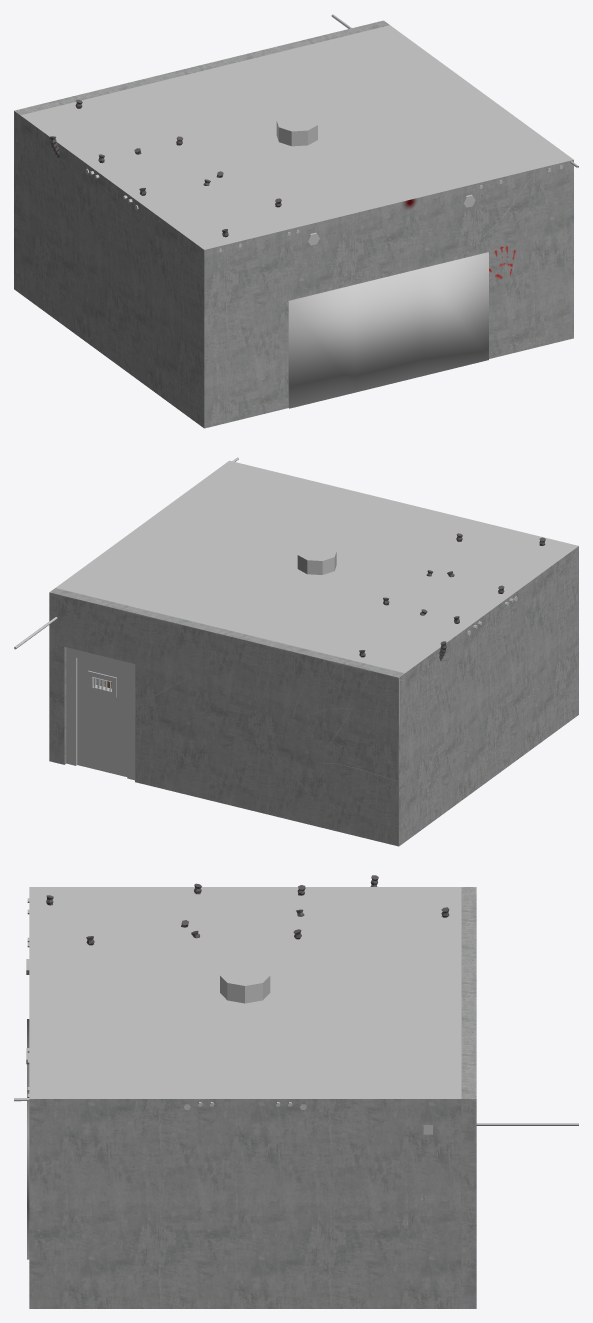
File: 2507172_BIOExrerimentalRoom.fbx
3 renders of one model, top to bottom at view 1: azimuth 30°, elevation 25°; view 2: azimuth 150°, elevation 25°; view 3: azimuth 270°, elevation 25°, orthographic. The views are drawn at different scales.
Visible parts, largest first — view 1: Ceiling, Walls.002, Walls.001, Showcase, WallsExit, CeilingLighting; view 2: Ceiling, WallsExit, Walls.001, MainDoor, DoorFrame, CeilingLighting; view 3: Walls, Ceiling, WallsExit, CeilingLighting, Showcase.
Boxes of the visible parts, x1=… form: Ceiling: x1=21, y1=25, x2=573, y2=249; Walls.002: x1=204, y1=160, x2=573, y2=428; Walls.001: x1=20, y1=116, x2=204, y2=427; Showcase: x1=288, y1=252, x2=488, y2=408; WallsExit: x1=14, y1=20, x2=389, y2=293; CeilingLighting: x1=276, y1=114, x2=317, y2=146; Ceiling: x1=56, y1=460, x2=578, y2=672; WallsExit: x1=49, y1=588, x2=405, y2=846; Walls.001: x1=405, y1=546, x2=578, y2=841; MainDoor: x1=71, y1=651, x2=131, y2=779; DoorFrame: x1=66, y1=647, x2=134, y2=780; CeilingLighting: x1=297, y1=544, x2=336, y2=574; Walls: x1=29, y1=1099, x2=460, y2=1308; Ceiling: x1=29, y1=887, x2=460, y2=1098; WallsExit: x1=461, y1=887, x2=476, y2=1308; CeilingLighting: x1=220, y1=965, x2=270, y2=1003; Showcase: x1=27, y1=1019, x2=29, y2=1259.
Size of the model in its own units: 666 by 329 by 732.
